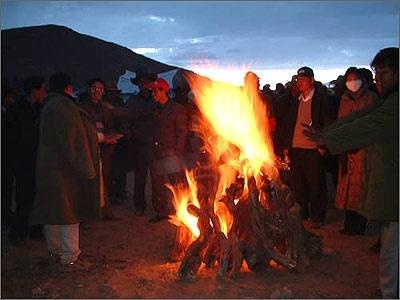fire: (191, 66, 278, 186), (168, 166, 204, 237)
